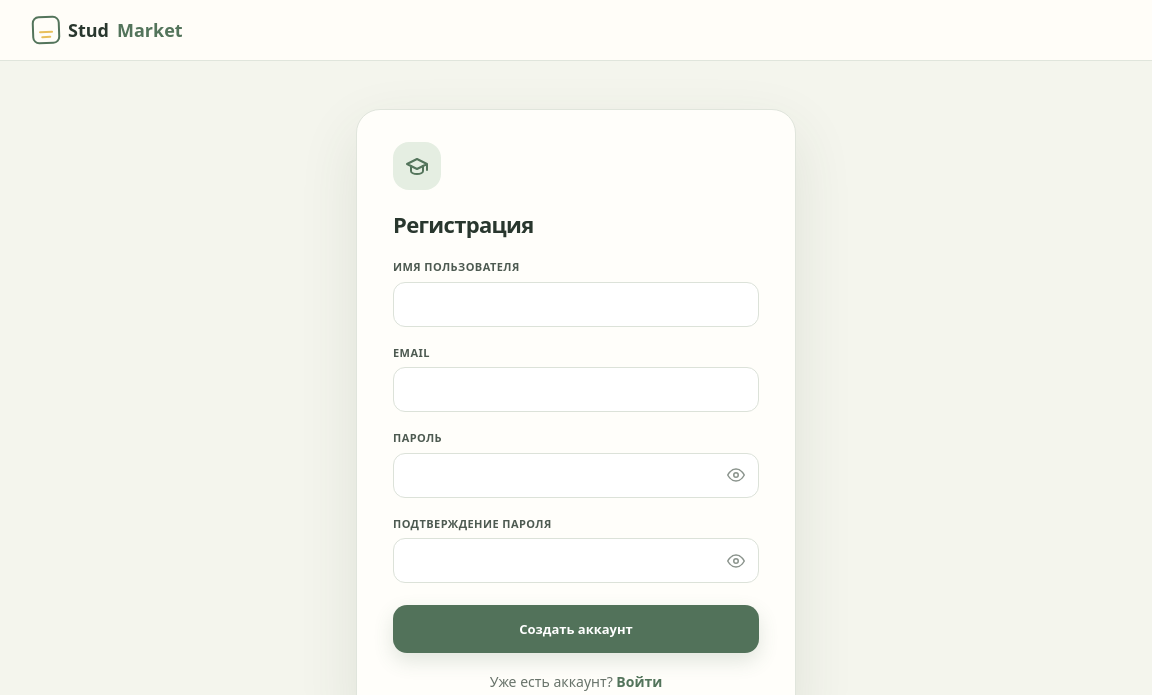
Test: RegisterPage › shows API errors returned by the server
This screenshot has width=1152, height=695.
Type "alice" into the field labelled "Имя пользователя" at (576, 304), box x1=393 y1=282 x2=759 y2=326
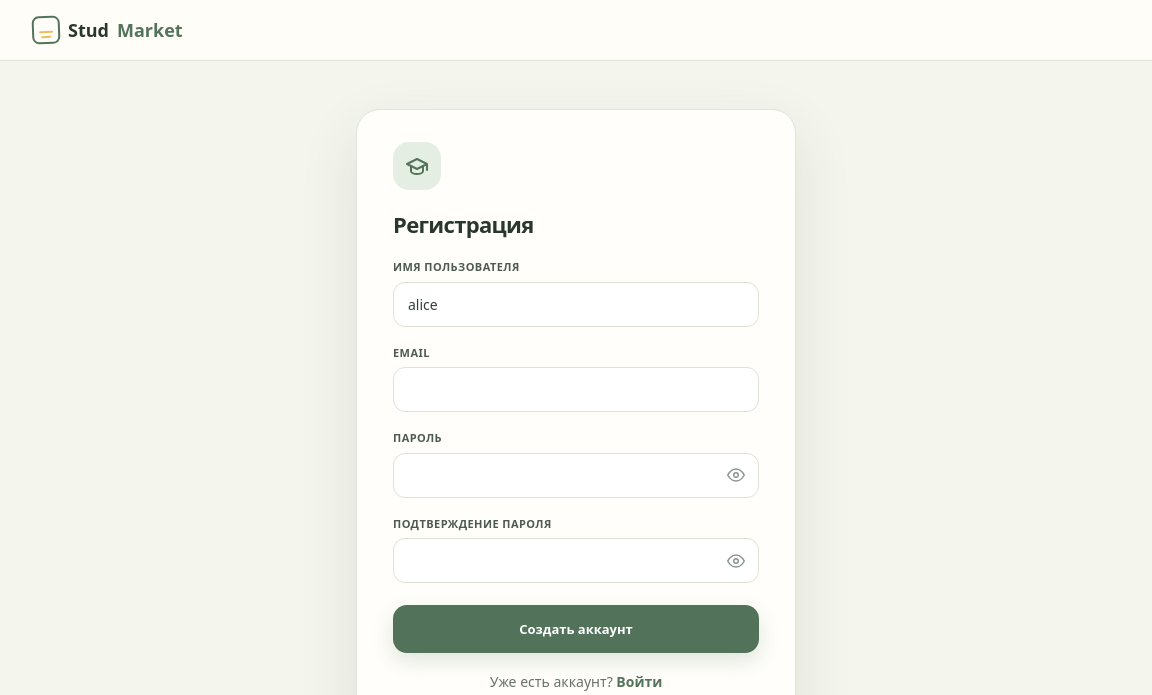
Type "alice@example.com" into the field labelled "Email" at (576, 390), box x1=393 y1=367 x2=759 y2=412
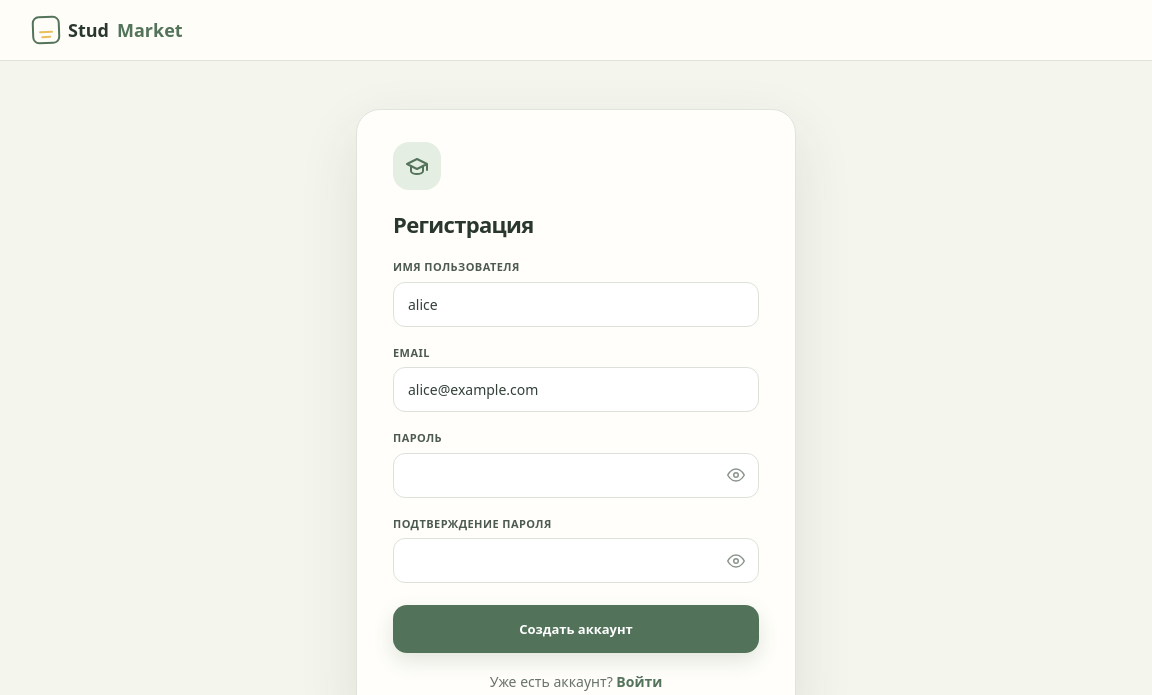
Type "Secret123" into the password field labelled "Пароль" at (576, 475), box x1=393 y1=452 x2=759 y2=498
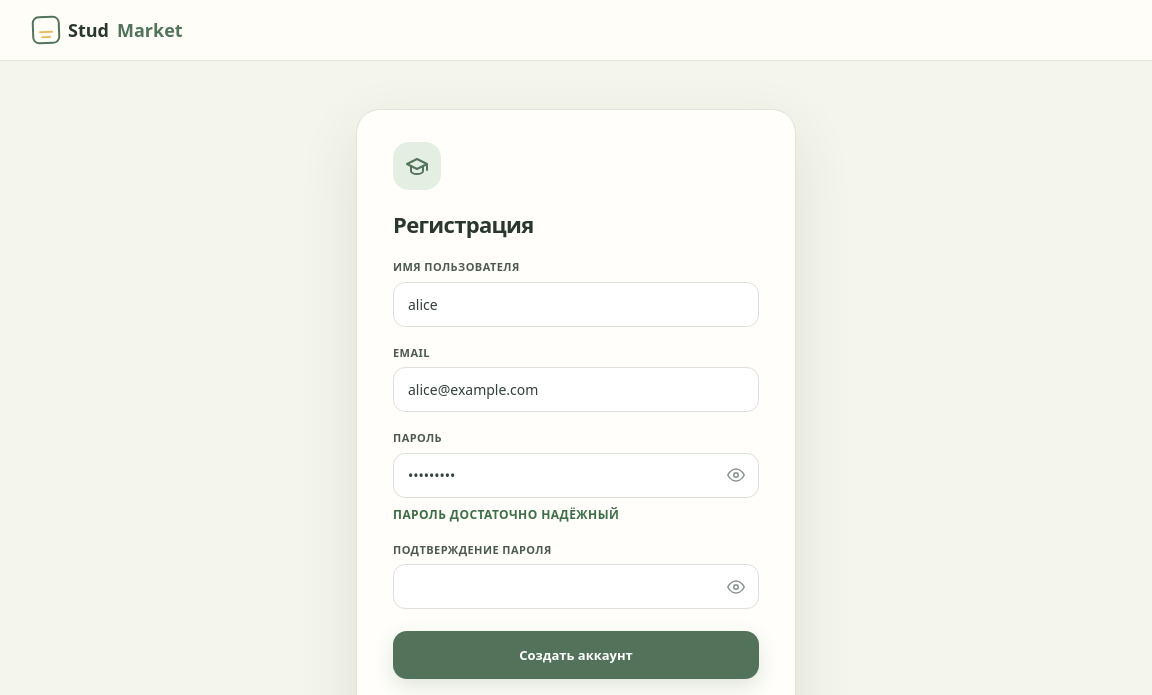
Type "Secret123" into the password field labelled "Подтверждение пароля" at (576, 586), box x1=393 y1=564 x2=759 y2=609
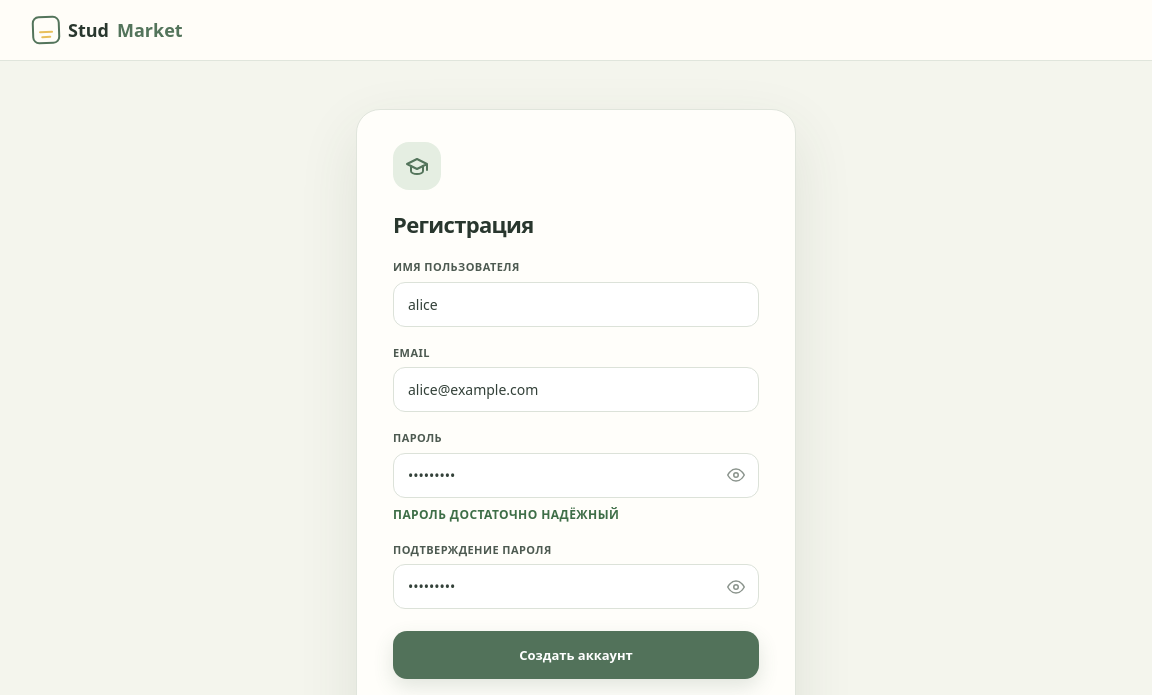
Click the button "Создать аккаунт" at (576, 655), box x1=393 y1=631 x2=759 y2=679
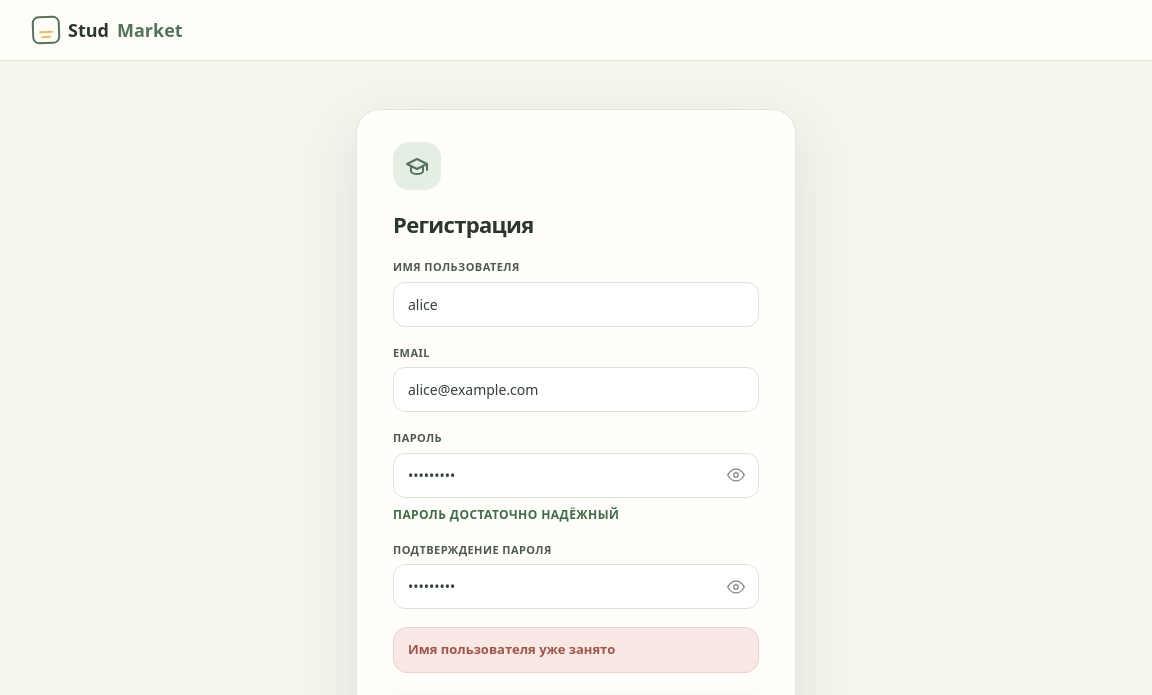
expect the text "Имя пользователя уже занято" is shown: met, box x1=393 y1=627 x2=759 y2=672
